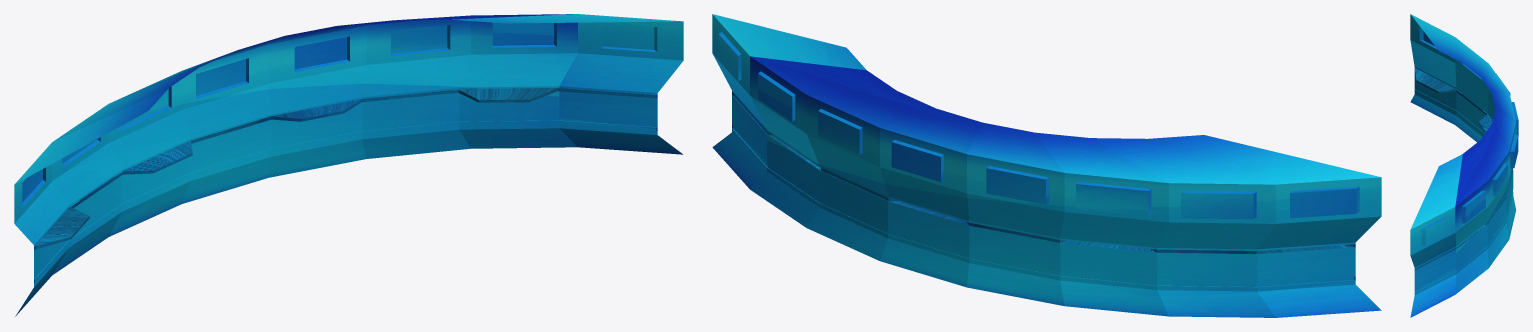
The model's file is wall.glb.
The picture shows the model from 3 angles, left to right: view 1: azimuth 30°, elevation 25°; view 2: azimuth 150°, elevation 25°; view 3: azimuth 270°, elevation 25°; orthographic projection. The views are drawn at different scales.
Parts seen in each view (by area): view 1: Cylinder.001, Cylinder.002; view 2: Cylinder.001, Cylinder.002; view 3: Cylinder.001, Cylinder.002.
Boxes of the visible parts, left/top/right/bottom form: Cylinder.001: left=14, top=14, right=683, bottom=316; Cylinder.002: left=34, top=87, right=656, bottom=249; Cylinder.001: left=712, top=14, right=1381, bottom=317; Cylinder.002: left=732, top=94, right=1353, bottom=254; Cylinder.001: left=1410, top=14, right=1518, bottom=317; Cylinder.002: left=1414, top=68, right=1512, bottom=270.
Size of the model in its own units: 16.27 by 3.56 by 3.45.
Materials: 2 (2 with a texture image).
